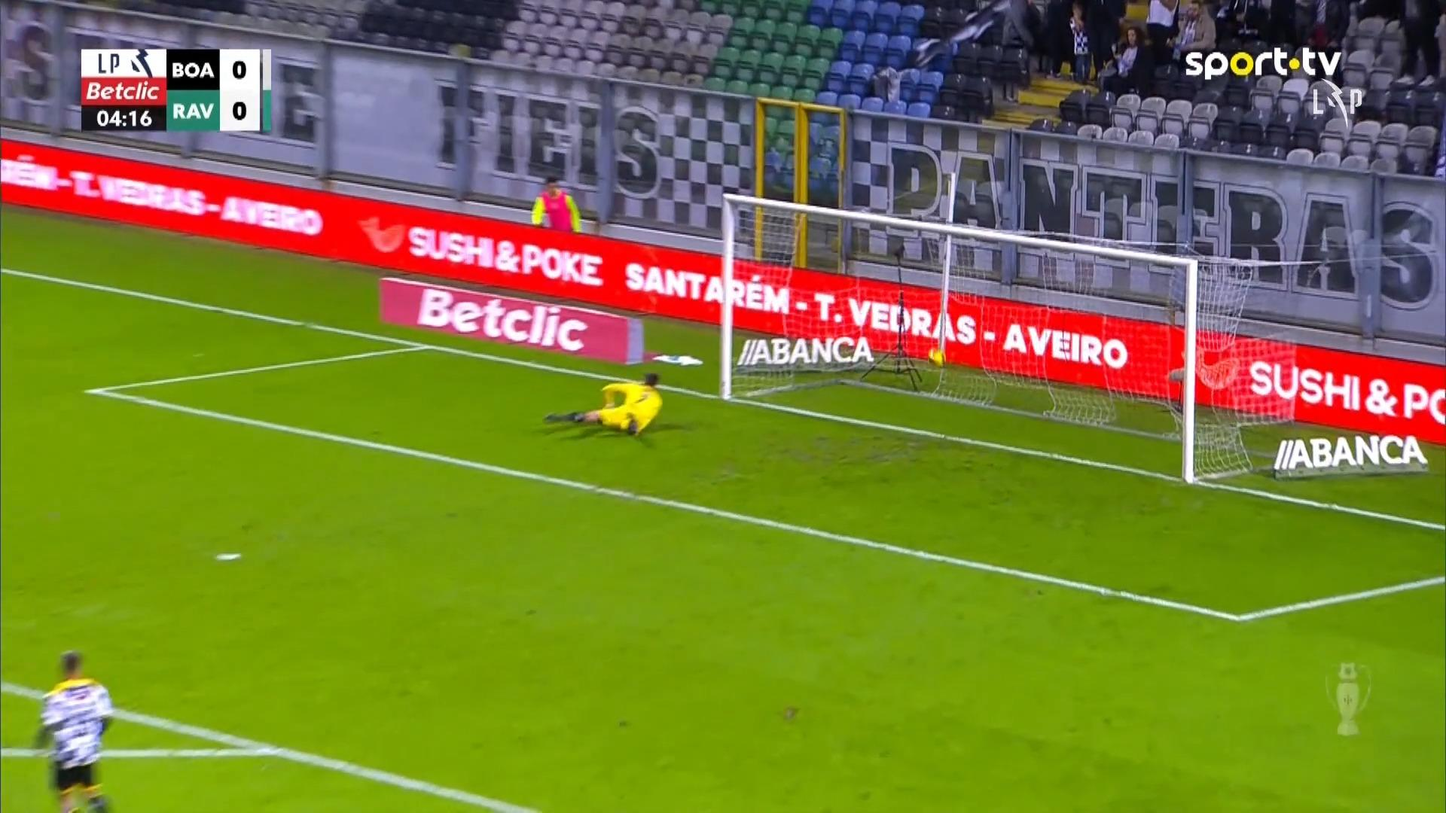ball: (928, 346, 944, 367), (1167, 367, 1184, 384)
goalkeeper: (541, 370, 664, 438)
referee: (34, 648, 114, 811)
